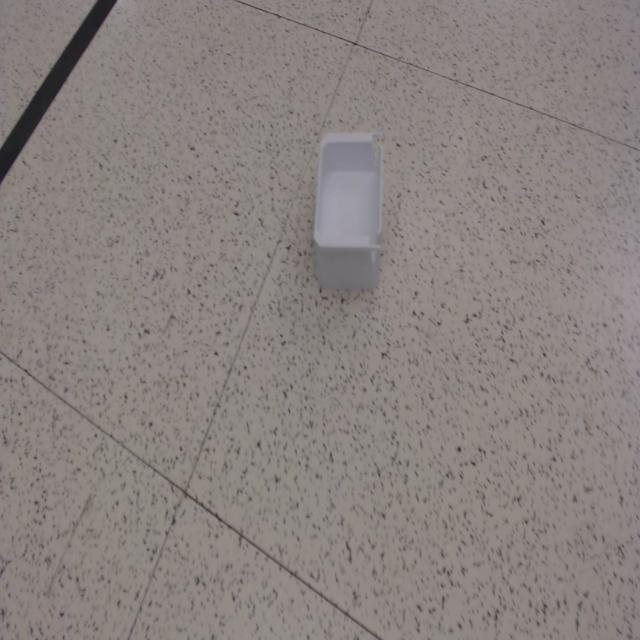wbox: (312, 128, 385, 294)
